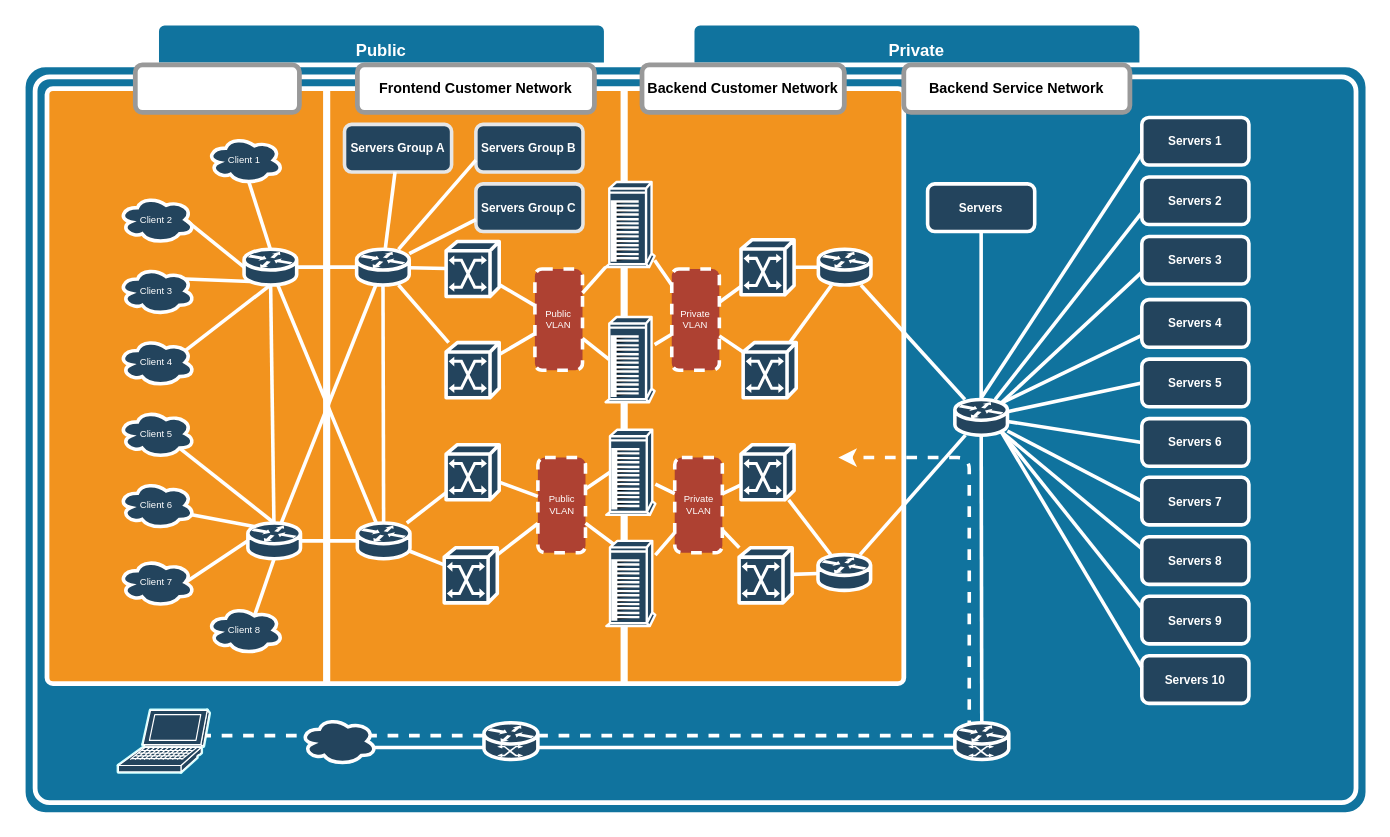
This 1390x837 diagram has some shape labels left out. Here are the shapes that lost their labels. From the top down, the centre of each, then its label:
At pixel 216 88: "Core Network".
At pixel 338 740: "Transit".
